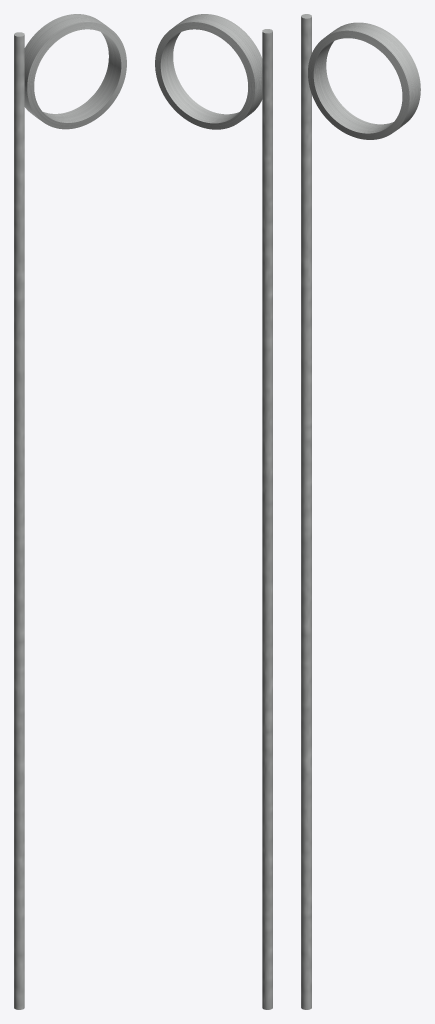
Rendered from ring+pole.obj.
The picture shows the model from 3 angles, left to right: view 1: azimuth 30°, elevation 25°; view 2: azimuth 150°, elevation 25°; view 3: azimuth 330°, elevation 25°; orthographic projection.
Visible parts, largest first — view 1: Cylinder.001, Torus.001; view 2: Cylinder.001, Torus.001; view 3: Cylinder.001, Torus.001.
Boxes of the visible parts, left/top/right/bottom form: Cylinder.001: left=14, top=32, right=24, bottom=1009; Torus.001: left=24, top=14, right=126, bottom=129; Cylinder.001: left=262, top=29, right=272, bottom=1009; Torus.001: left=155, top=14, right=262, bottom=129; Cylinder.001: left=301, top=14, right=311, bottom=1009; Torus.001: left=308, top=22, right=420, bottom=139.
Size of the model in its own units: 2.35 by 20 by 0.4636.
Materials: 2 (2 with a texture image).
